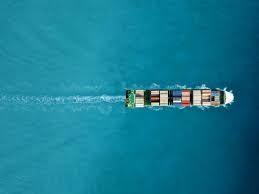Boat: (123, 87, 238, 110)
